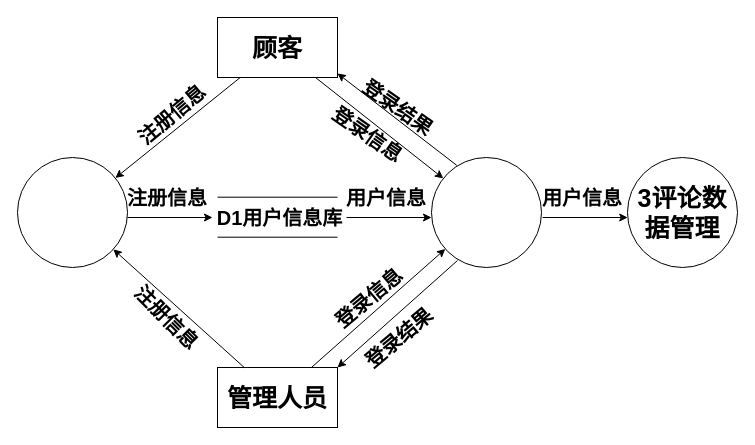
The diagram is 755 pixels wide and 445 high, and some of its shapes have lost their labels. The box of each missing label's shape, as (x1, y1, x2, y2) in pixels:
1.1用户注册: (16, 156, 128, 268)
1.2用户登录: (430, 156, 542, 268)
